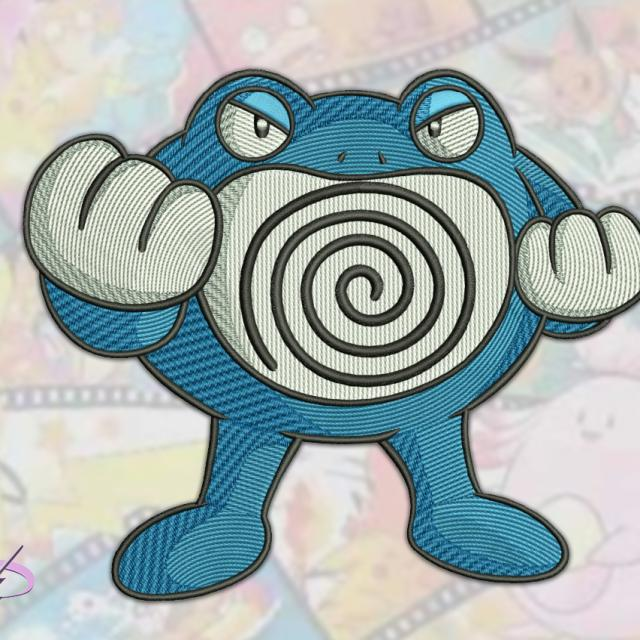Poliwrath: (44, 70, 602, 562)
